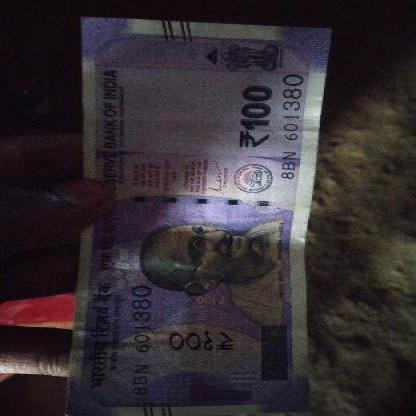New100Front: (77, 19, 307, 415)
